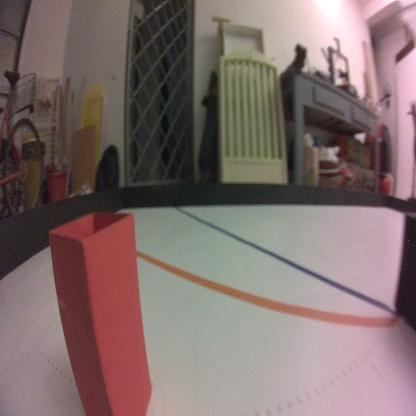red: (47, 210, 153, 416)
